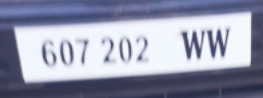0: (118, 33, 134, 65), (58, 37, 73, 67)
2: (135, 31, 152, 66), (100, 33, 118, 65)
6: (34, 37, 58, 68)
7: (75, 36, 92, 65)
w: (205, 22, 232, 59), (180, 27, 206, 59)
